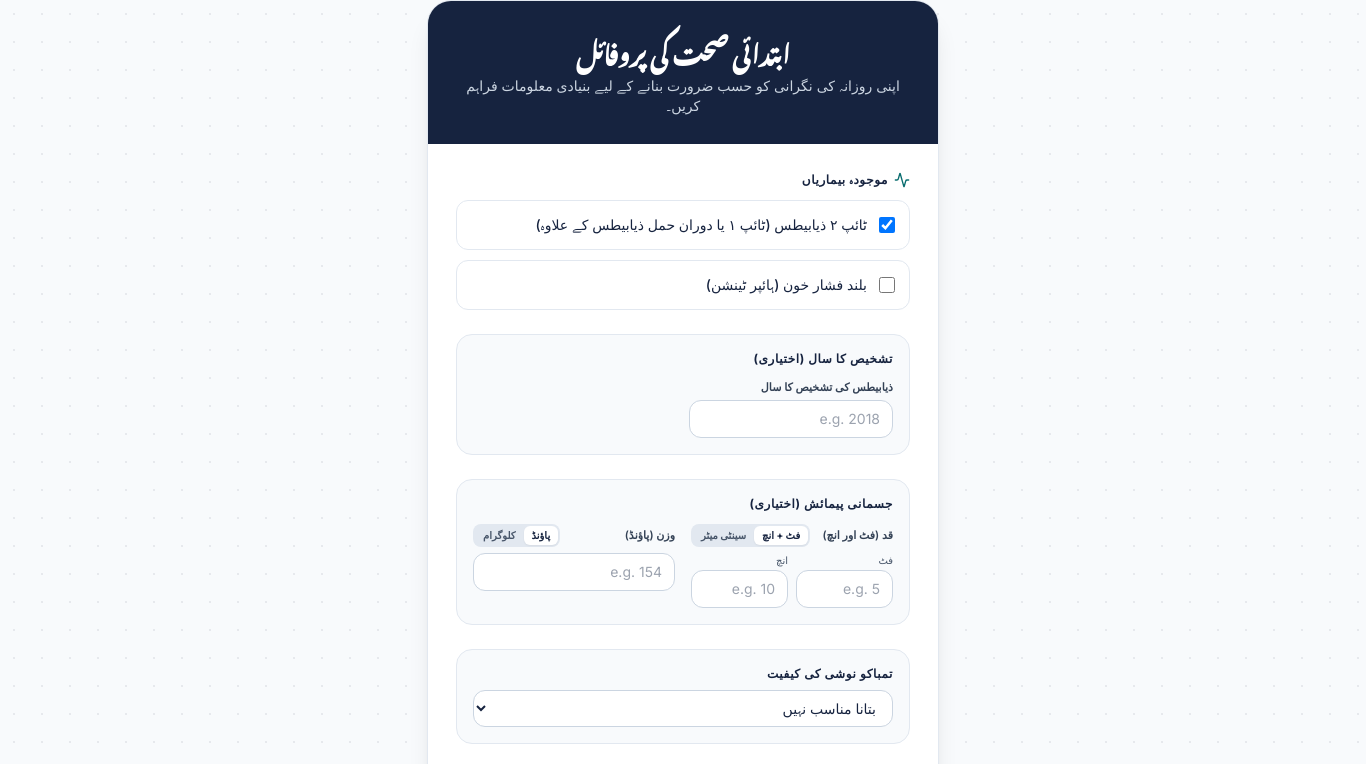
Health Profile Unit Conversions & Toggles (Task 1) › Component Rendering & Interactions › displays Urdu error strings when language is set to Urdu
Step 1. Type "1000" into the number field labelled "وزن (پاؤنڈ)" → [574, 572], box [473,553,675,591]
(page scrolled)
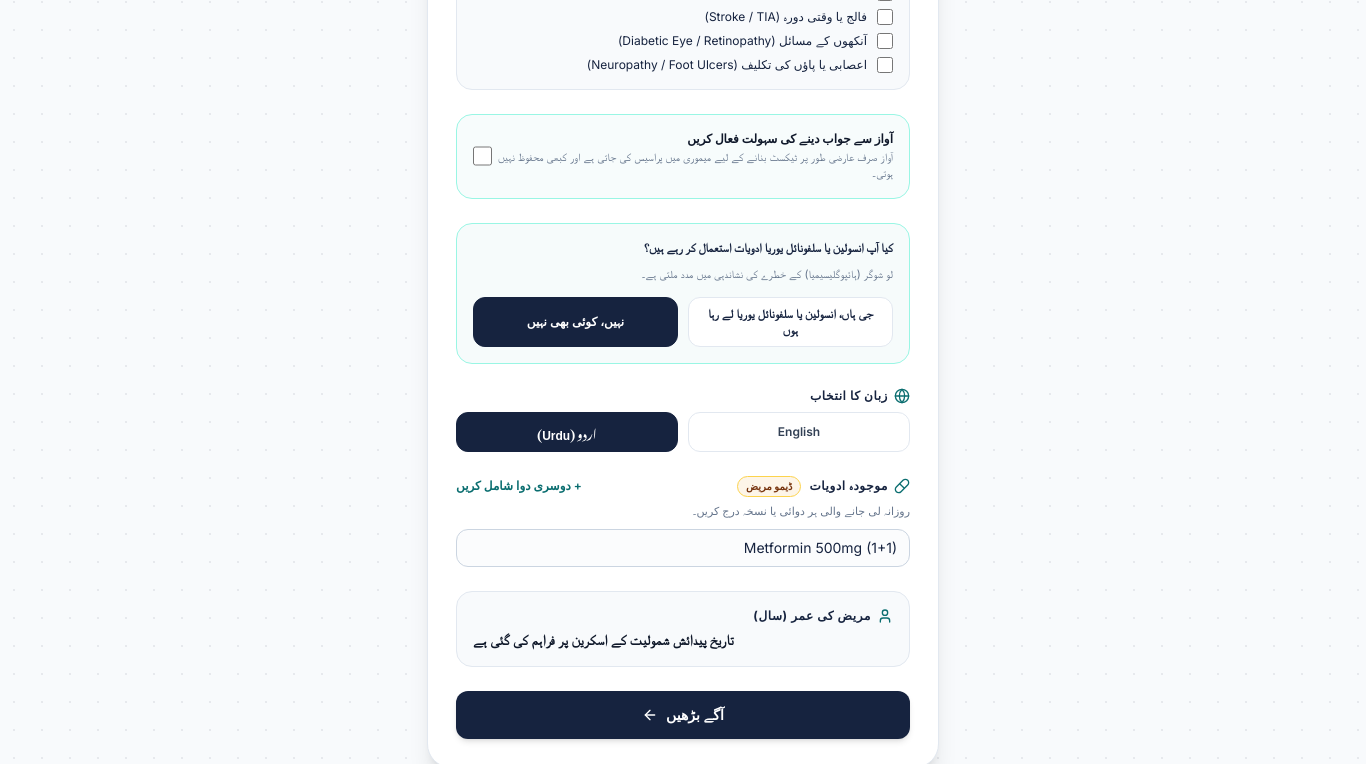
Step 2. Click the button "آگے بڑھیں" → [683, 715], box [456,691,910,739]
(page scrolled)
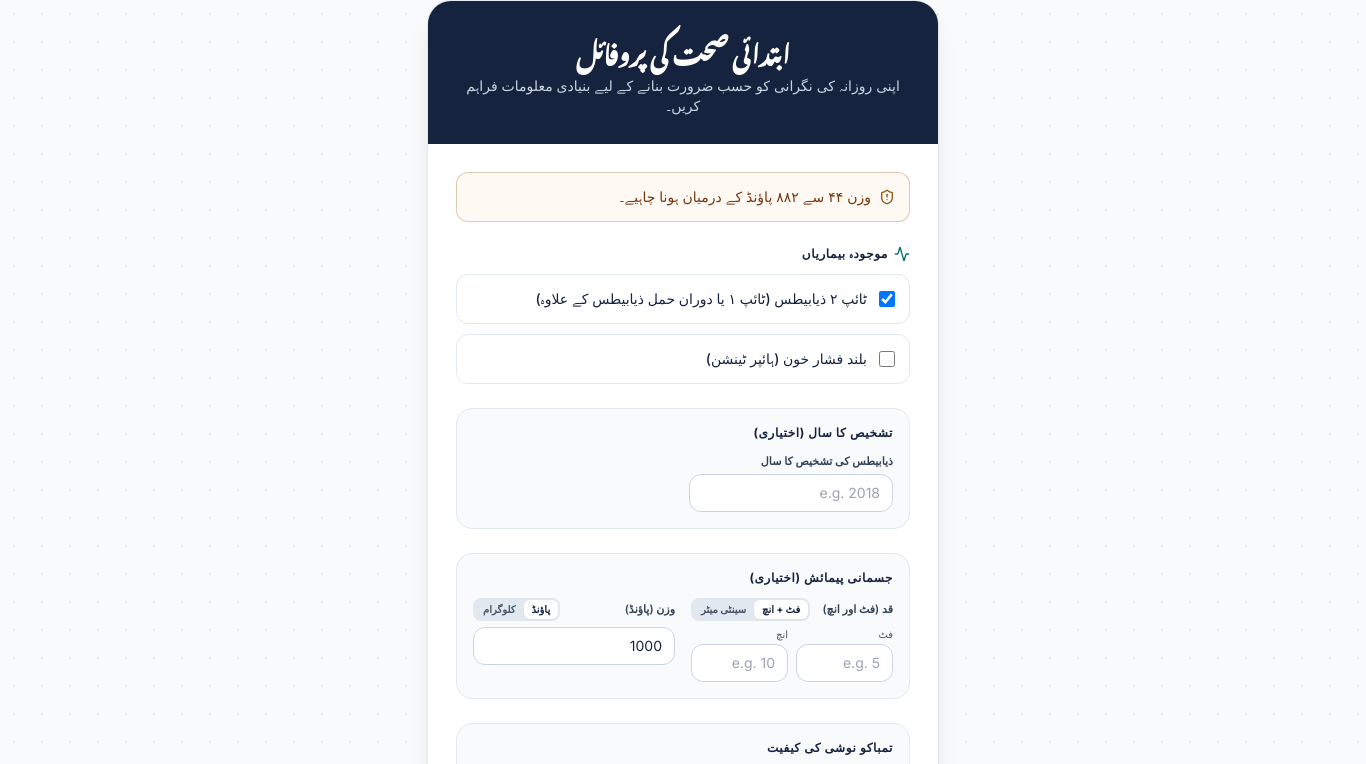
Check: the text "وزن ۴۴ سے ۸۸۲ پاؤنڈ کے درمیان ہونا چاہیے۔" is shown, box [619,187,871,207]
